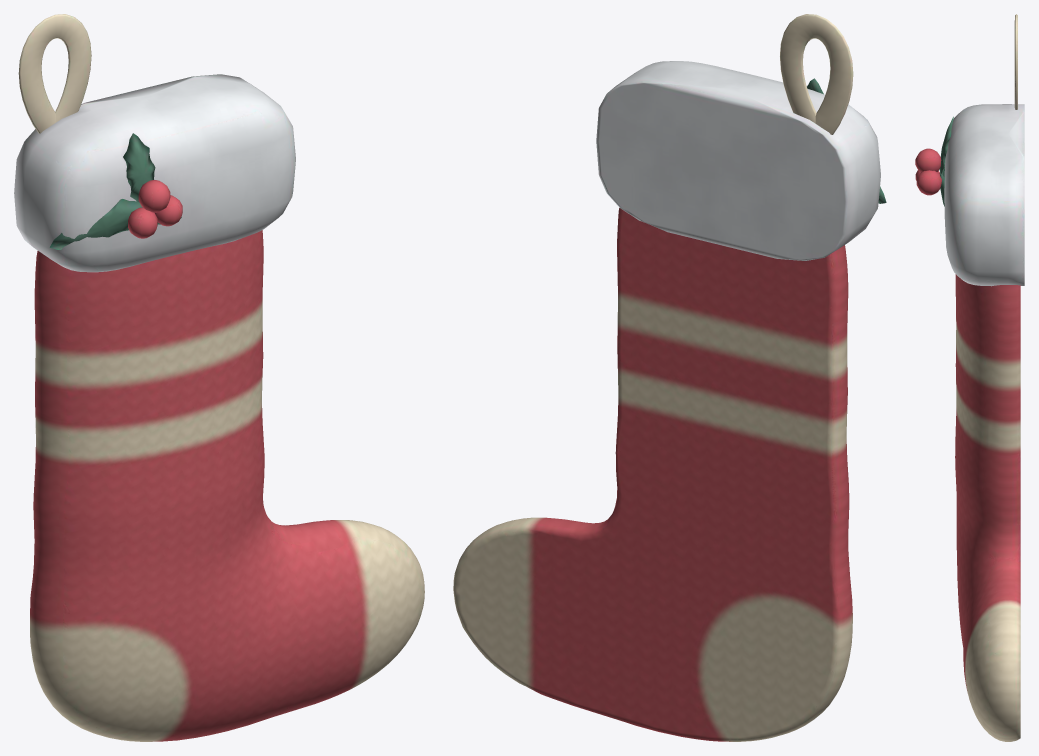
The model's file is calcetin_navidad.glb.
The picture shows the model from 3 angles, left to right: view 1: azimuth 30°, elevation 25°; view 2: azimuth 150°, elevation 25°; view 3: azimuth 270°, elevation 25°; orthographic projection. The views are drawn at different scales.
Visible parts, largest first — view 1: christmas-stocking_body; view 2: christmas-stocking_body; view 3: christmas-stocking_body.
Part boxes in pixels (left/top/right/bottom): christmas-stocking_body: left=14, top=14, right=424, bottom=741; christmas-stocking_body: left=453, top=14, right=886, bottom=741; christmas-stocking_body: left=915, top=14, right=1024, bottom=741.
Size of the model in its own units: 0.2792 by 0.5016 by 0.0803.
Materials: 1 (1 with a texture image).
